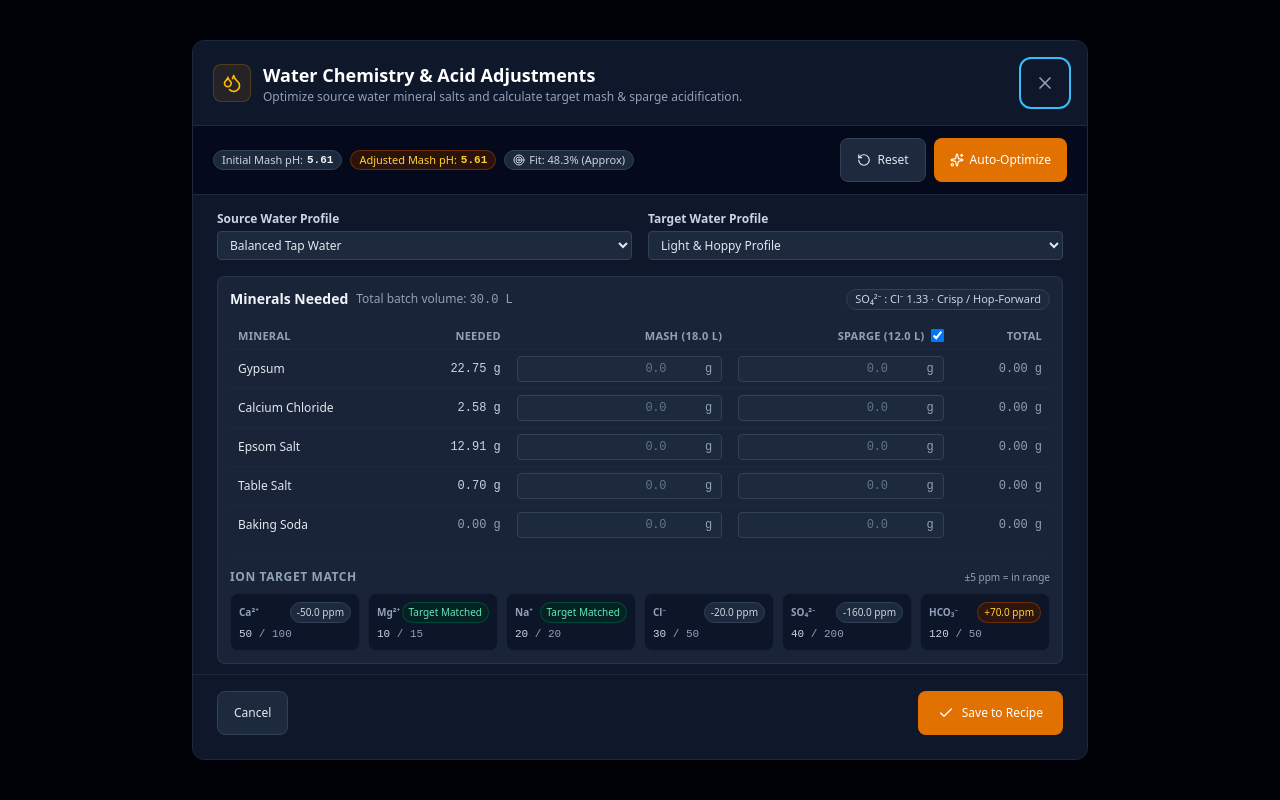
Test: M21_P1 AC-2..AC-10: WaterCalculatorModal Interactive Features › Reset button clears all salt and acid inputs back to zero
The width and height of the screenshot is (1280, 800).
Type "5.0" into the number field named "Mash Gypsum" at coordinates (620, 369), box [517, 356, 722, 382]
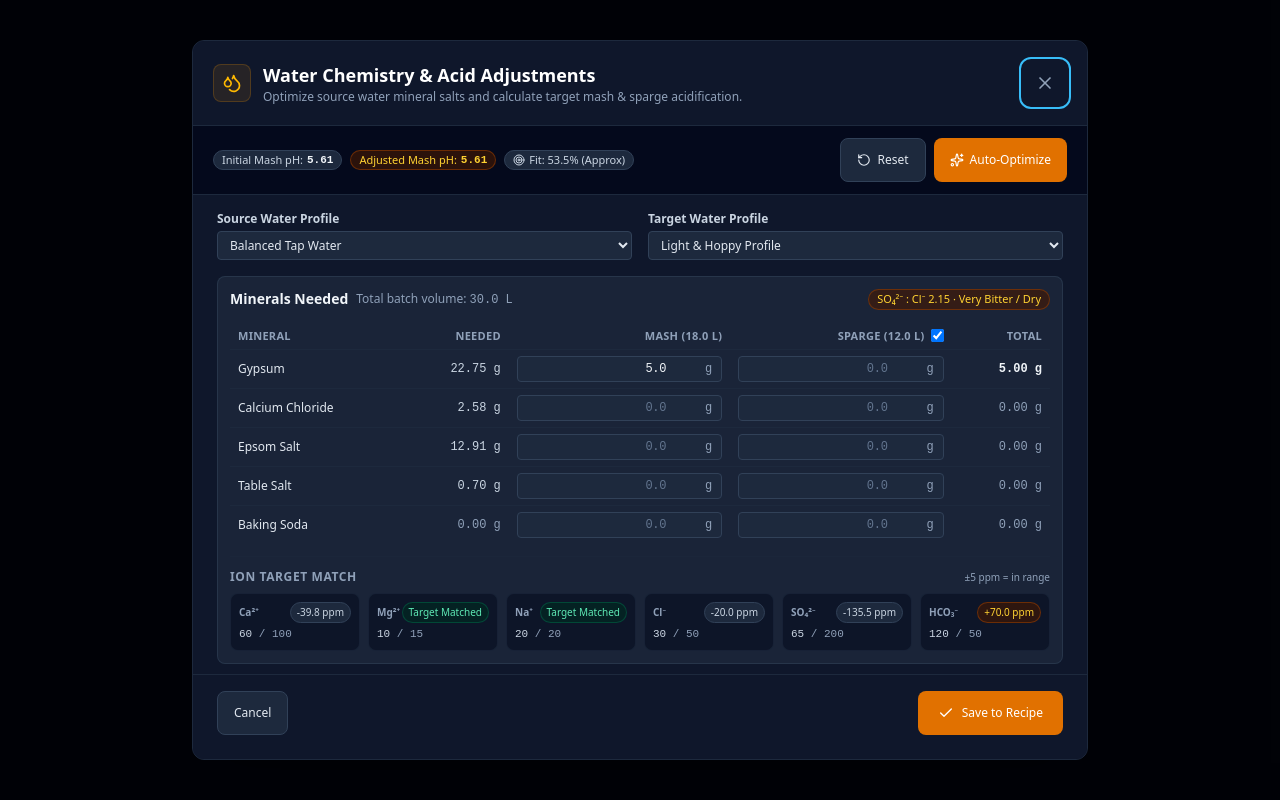
Click the button with test id "water-calc-reset-btn" at coordinates (883, 160), box [840, 138, 926, 182]
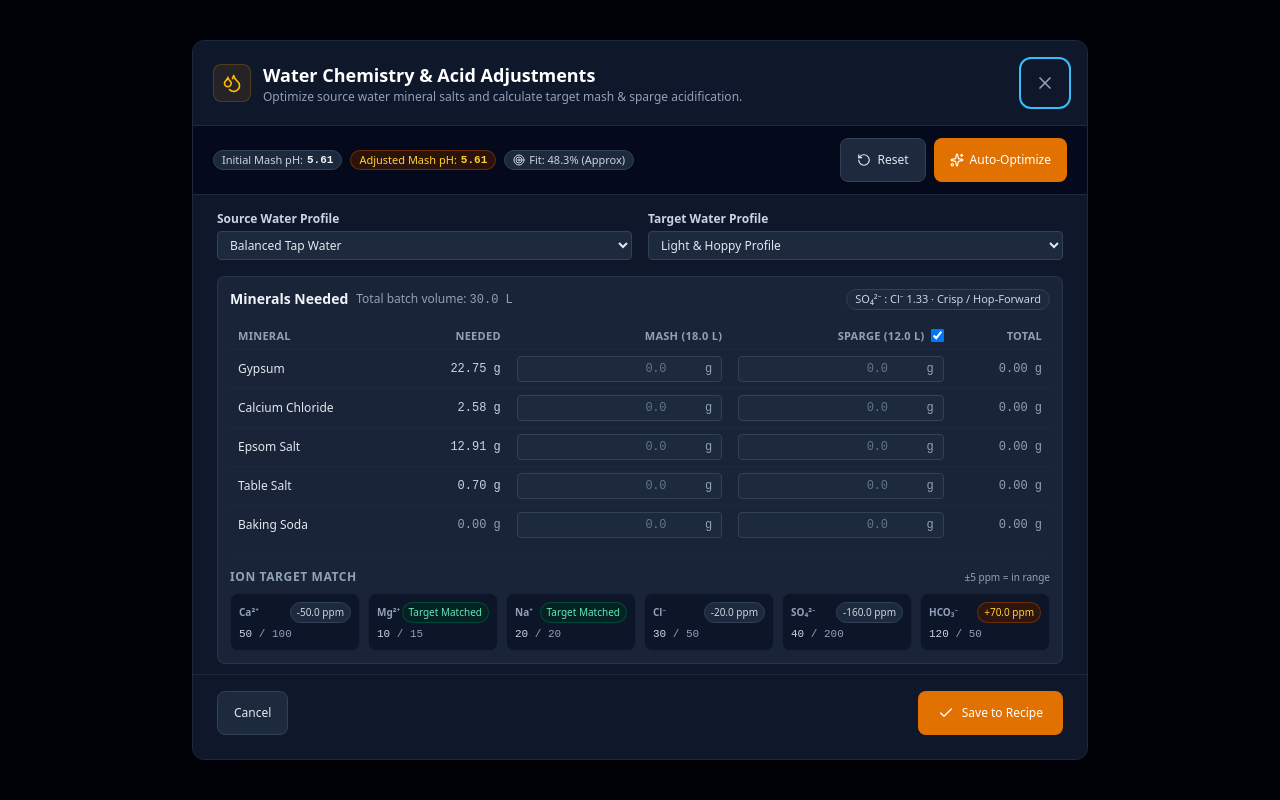
Check: the number field named "Mash Gypsum" is empty, box [517, 356, 722, 382]
